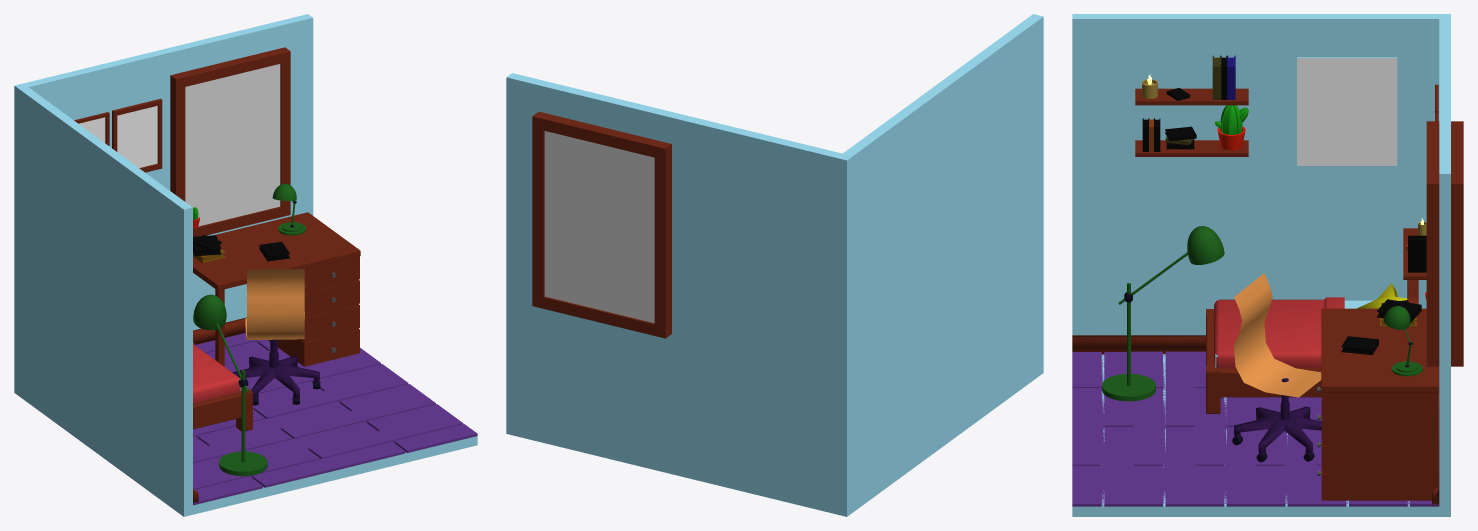
File: room.glb
3 renders of one model, left to right at view 1: azimuth 30°, elevation 25°; view 2: azimuth 150°, elevation 25°; view 3: azimuth 270°, elevation 25°, orthographic. The views are drawn at different scales.
Parts seen in each view (by area): view 1: walls, floor, Cube.002, table top, window frame, table bottom, Cube.001, table top.015, mattress, bedframe, Circle, table top.003 (+3 smaller); view 2: walls, Cube.002, window frame; view 3: walls, floor, table bottom, walls.002, table top, window frame, mattress, Cube.001, bedframe, wall flooring, Circle, table top.009 (+8 smaller).
Part boxes in pixels (x1=…): walls: x1=14, y1=14, x2=477, y2=516; floor: x1=193, y1=333, x2=477, y2=505; Cube.002: x1=185, y1=64, x2=280, y2=226; table top: x1=193, y1=212, x2=360, y2=290; window frame: x1=170, y1=47, x2=290, y2=236; table bottom: x1=268, y1=256, x2=359, y2=366; Cube.001: x1=245, y1=269, x2=304, y2=340; table top.015: x1=117, y1=106, x2=157, y2=167; mattress: x1=193, y1=342, x2=240, y2=403; bedframe: x1=193, y1=387, x2=252, y2=431; Circle: x1=232, y1=356, x2=319, y2=399; table top.003: x1=112, y1=98, x2=162, y2=172; walls: x1=506, y1=14, x2=1043, y2=516; Cube.002: x1=544, y1=131, x2=654, y2=323; window frame: x1=532, y1=111, x2=671, y2=338; walls: x1=1072, y1=14, x2=1450, y2=516; floor: x1=1072, y1=351, x2=1439, y2=506; table bottom: x1=1321, y1=392, x2=1437, y2=500; walls.002: x1=1297, y1=58, x2=1397, y2=165; table top: x1=1321, y1=308, x2=1438, y2=392; window frame: x1=1426, y1=121, x2=1463, y2=366; mattress: x1=1214, y1=297, x2=1344, y2=368; Cube.001: x1=1234, y1=273, x2=1321, y2=397; bedframe: x1=1206, y1=280, x2=1418, y2=413; wall flooring: x1=1072, y1=335, x2=1439, y2=506; Circle: x1=1234, y1=406, x2=1321, y2=454; table top.009: x1=1135, y1=88, x2=1248, y2=105.
Size of what is drawn, in the model's own units: 4.13 by 4.13 by 4.26.
